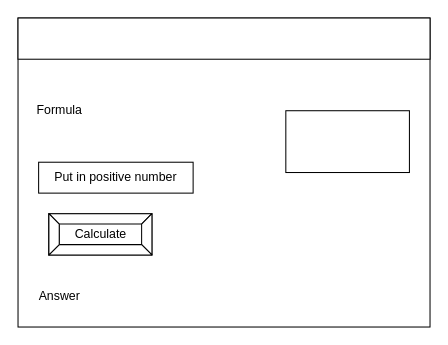
Image size: 448x345. Some labels were removed from this diagram. The shapes that lost their labels are listed below. From the top down, each one's centre as x and y in pixels, then its label:
At pixel 223 38: "Positive number Calculator".
At pixel 347 141: "Image here".
